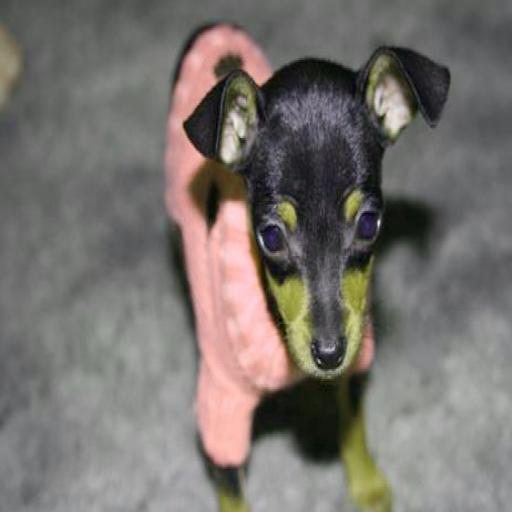dog_face: (192, 30, 443, 407)
